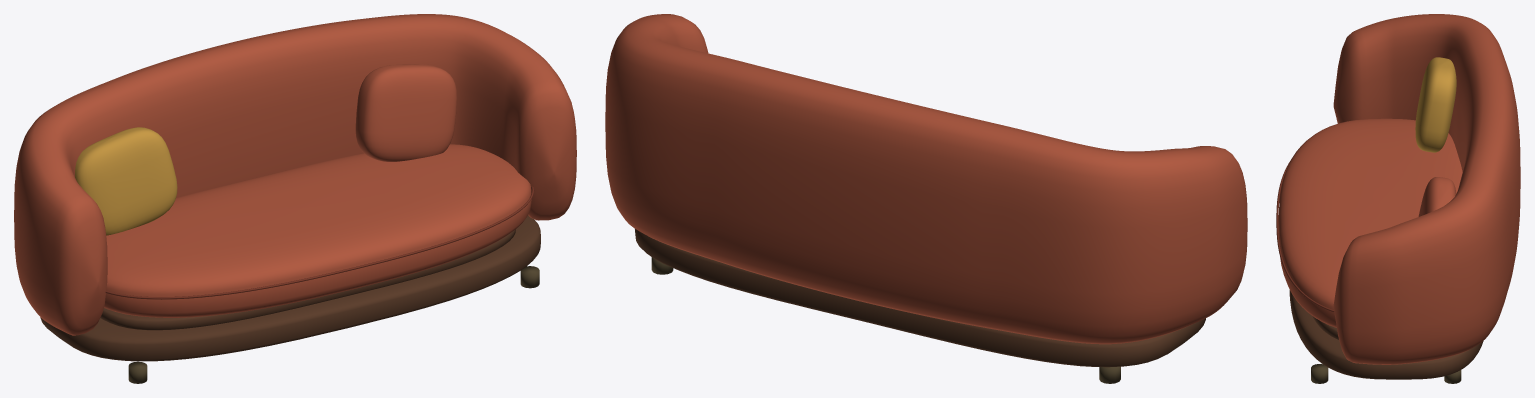
The model's file is rr_crescent_sofa_v2.glb.
3 renders of one model, left to right at view 1: azimuth 30°, elevation 25°; view 2: azimuth 150°, elevation 25°; view 3: azimuth 270°, elevation 25°, orthographic. The views are drawn at different scales.
Visible parts, largest first — view 1: Sweeping upholstered shell.001, Single deep bench cushion.001, Recessed walnut plinth.001, Loose scatter cushion.003, Loose scatter cushion.002, Concealed seat support, Continuous seat welt.001; view 2: Sweeping upholstered shell.001, Recessed walnut plinth.001; view 3: Sweeping upholstered shell.001, Single deep bench cushion.001, Recessed walnut plinth.001, Loose scatter cushion.002, Loose scatter cushion.003, Continuous seat welt.001, Bronze foot.006, Concealed seat support.
Boxes of the visible parts, x1=… form: Sweeping upholstered shell.001: x1=14, y1=14, x2=576, y2=335; Single deep bench cushion.001: x1=104, y1=144, x2=531, y2=317; Recessed walnut plinth.001: x1=40, y1=215, x2=540, y2=361; Loose scatter cushion.003: x1=355, y1=64, x2=456, y2=161; Loose scatter cushion.002: x1=75, y1=127, x2=177, y2=235; Concealed seat support: x1=100, y1=229, x2=515, y2=330; Continuous seat welt.001: x1=105, y1=186, x2=534, y2=299; Sweeping upholstered shell.001: x1=605, y1=14, x2=1247, y2=344; Recessed walnut plinth.001: x1=635, y1=229, x2=1205, y2=367; Sweeping upholstered shell.001: x1=1333, y1=14, x2=1520, y2=364; Single deep bench cushion.001: x1=1278, y1=118, x2=1462, y2=327; Recessed walnut plinth.001: x1=1289, y1=290, x2=1483, y2=379; Loose scatter cushion.002: x1=1415, y1=57, x2=1456, y2=152; Loose scatter cushion.003: x1=1418, y1=177, x2=1456, y2=216; Continuous seat welt.001: x1=1276, y1=159, x2=1334, y2=312; Bronze foot.006: x1=1311, y1=364, x2=1328, y2=383; Concealed seat support: x1=1312, y1=316, x2=1338, y2=339.
Size of the model in its own units: 11.56 by 4.55 by 5.14.
